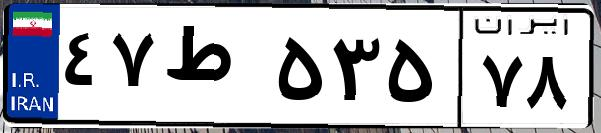3: (330, 28, 385, 110)
4: (57, 26, 110, 100)
5: (270, 28, 330, 110), (385, 28, 445, 110)
7: (475, 38, 525, 113), (110, 28, 158, 98)
8: (525, 38, 570, 115)
ط: (158, 20, 270, 120)
